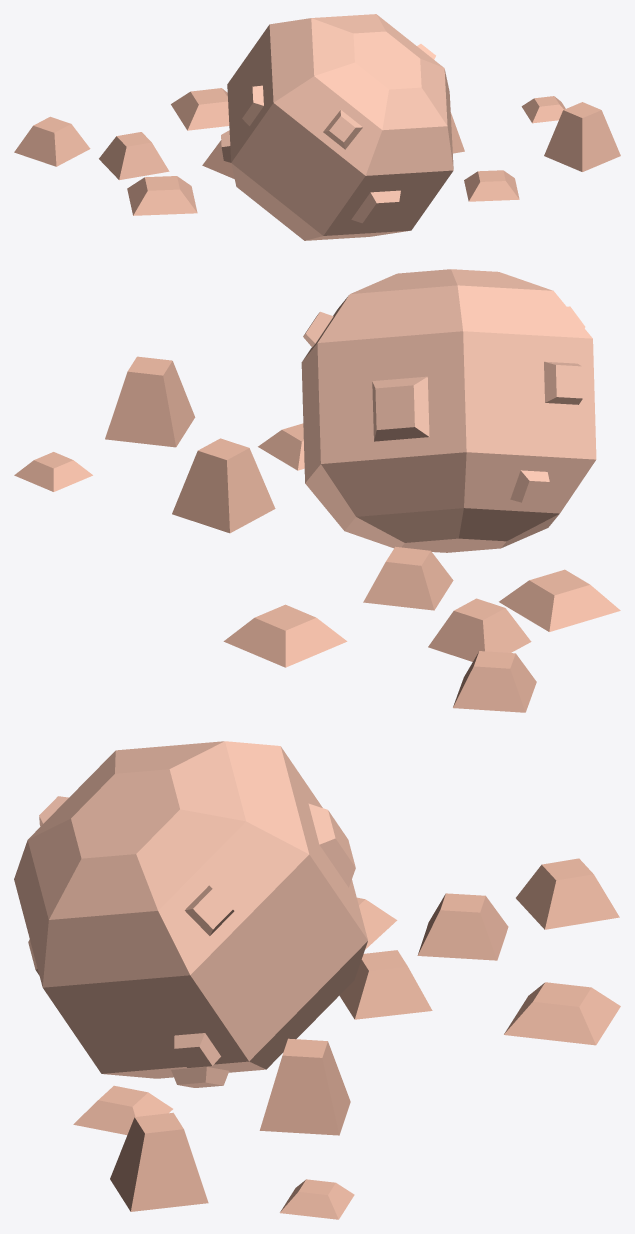
File: meteorFragment.glb
3 renders of one model, top to bottom at view 1: azimuth 30°, elevation 25°; view 2: azimuth 150°, elevation 25°; view 3: azimuth 270°, elevation 25°, orthographic. The views are drawn at different scales.
Visible parts, largest first — view 1: meteor_detailed, rocks_smallA, rocks_smallB; view 2: meteor_detailed, rocks_smallA, rocks_smallB; view 3: meteor_detailed, rocks_smallA, rocks_smallB.
Part boxes in pixels (box(x1,y1,x2,y2)): meteor_detailed: box(221, 14, 453, 240); rocks_smallA: box(14, 88, 234, 215); rocks_smallB: box(450, 96, 620, 201); meteor_detailed: box(301, 269, 596, 552); rocks_smallA: box(223, 546, 620, 712); rocks_smallB: box(14, 356, 304, 533); meteor_detailed: box(14, 741, 367, 1087); rocks_smallA: box(339, 858, 620, 1045); rocks_smallB: box(73, 1038, 354, 1219).
Bounding box in the file's own units: 10.74 × 4.68 × 8.25.
